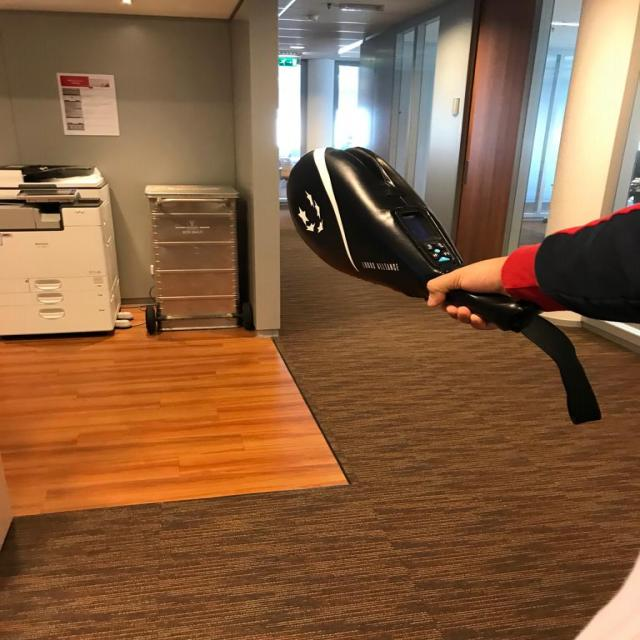paddle: (281, 143, 537, 331)
